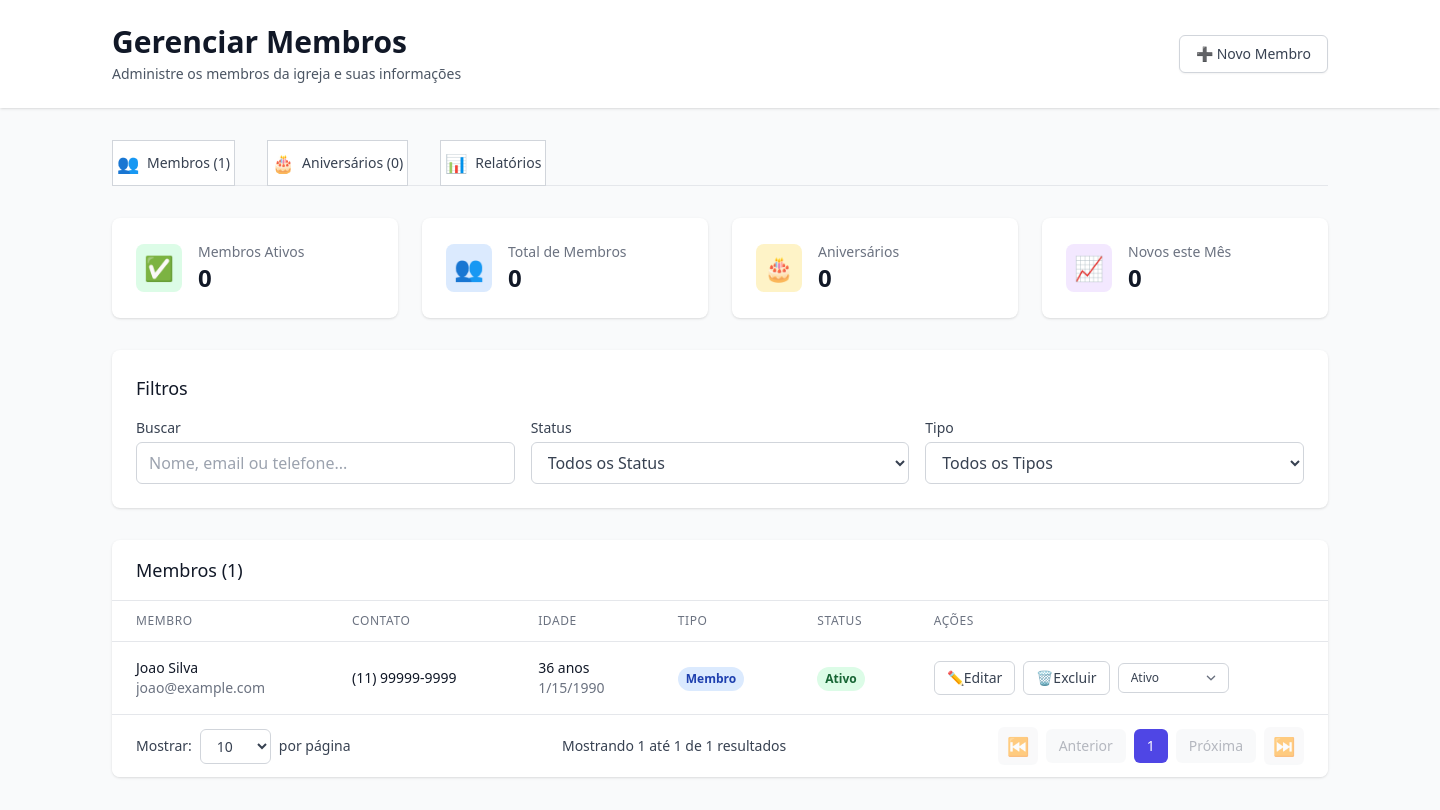
Scenario: MembersManagementPage › Tab Navigation › should switch to birthdays tab
Check: the text "Joao Silva" is shown, box [136,658,198,677]
// Click birthdays tab
Click the button "🎂 Aniversários (0)": (338, 163) [267,140,408,186]
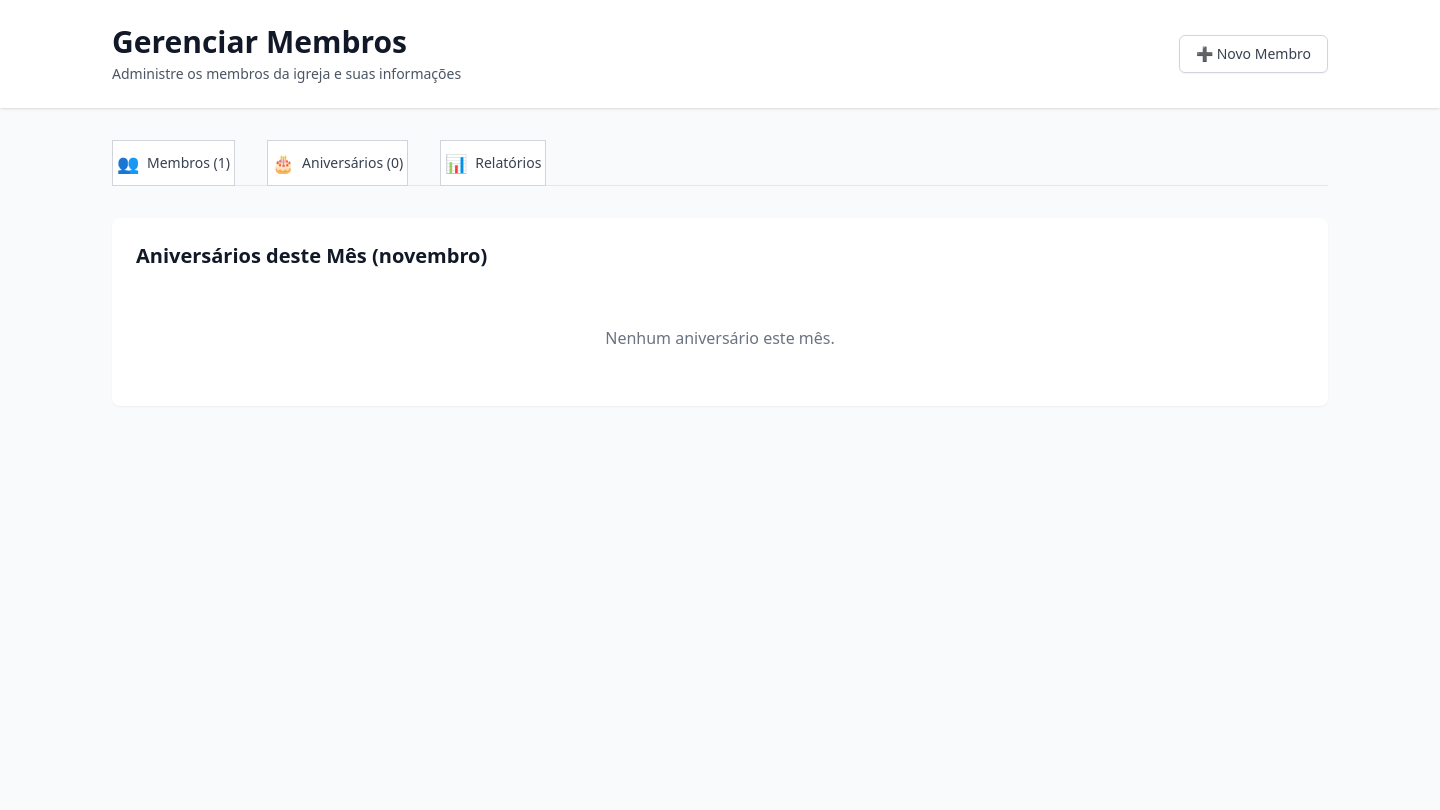
Check: the heading "Aniversários deste Mês (novembro)" is shown, box [136,242,487,269]
